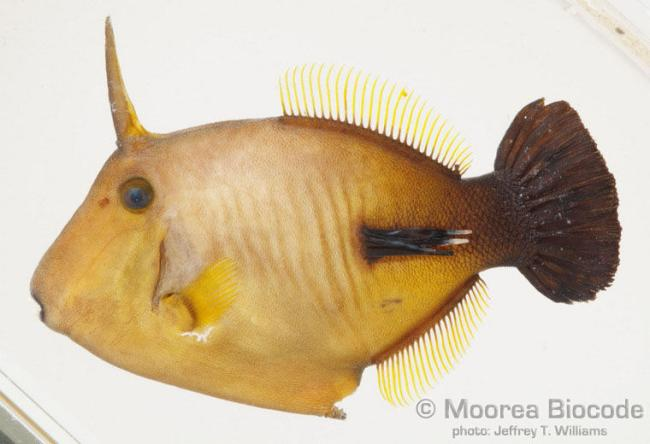fish: (32, 16, 619, 419)
